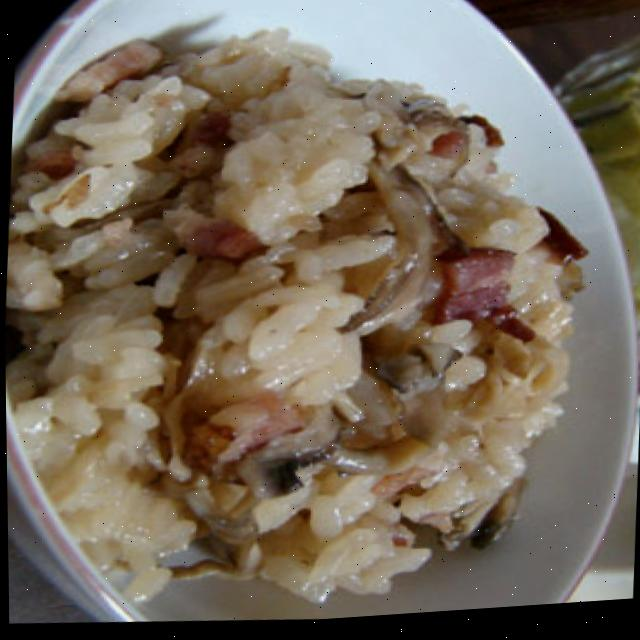米饭主食: (1, 23, 577, 624)
